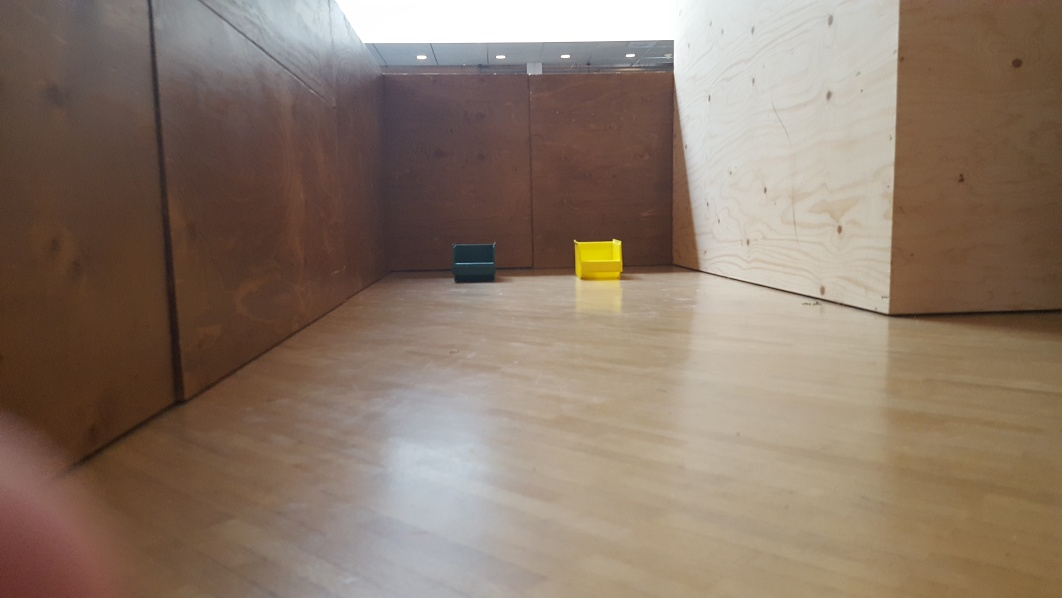tray: (567, 237, 625, 277), (447, 239, 499, 282)
